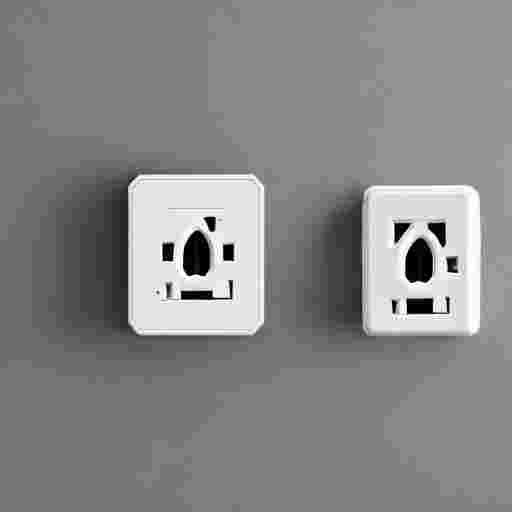power outlet: (128, 174, 264, 335), (362, 185, 480, 335)
